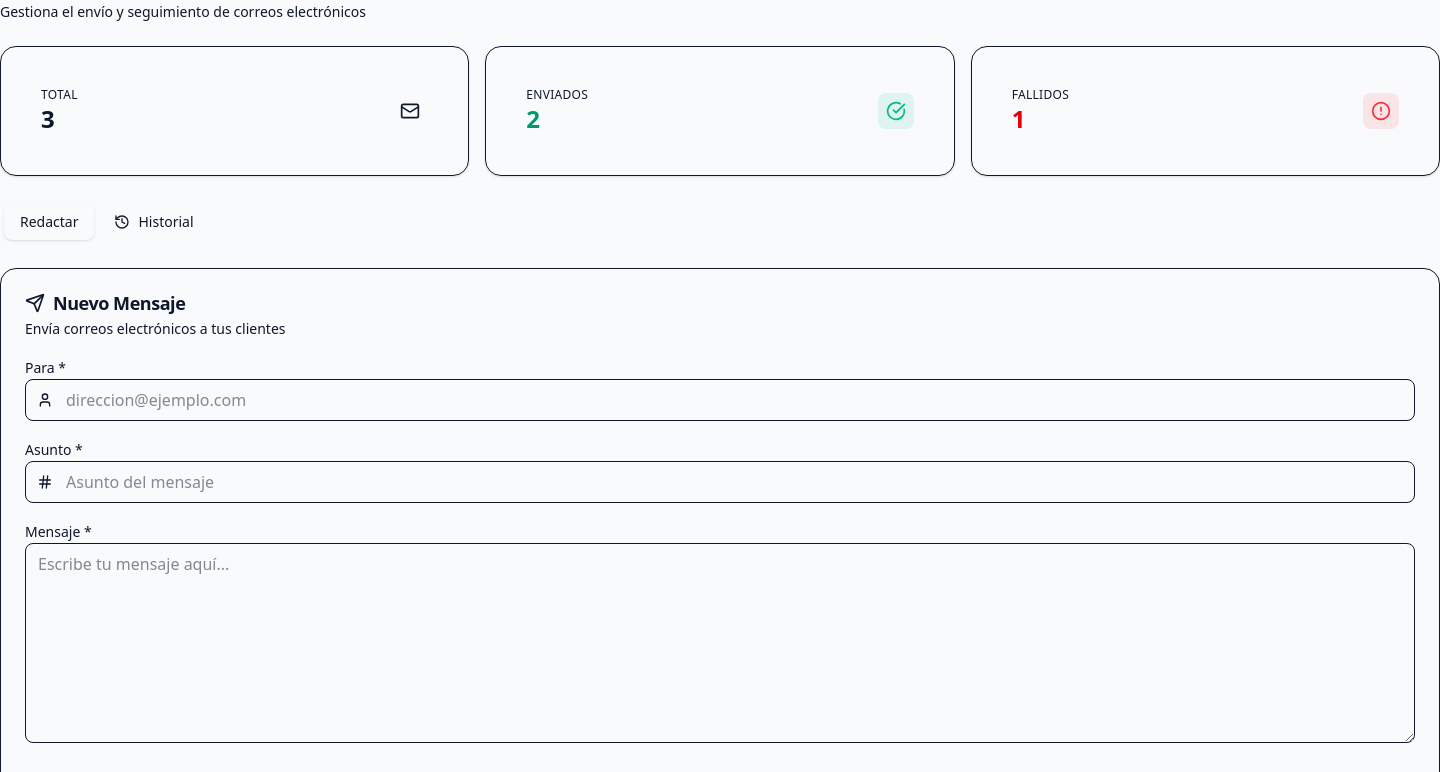
Scenario: MailPage › debe enviar correo correctamente, limpiar formulario y mostrar success
The width and height of the screenshot is (1440, 772).
Type "cliente@ejemplo.com" into the field with placeholder "direccion@ejemplo.com" at (720, 400), box top-left (25, 379), bottom-right (1415, 421)
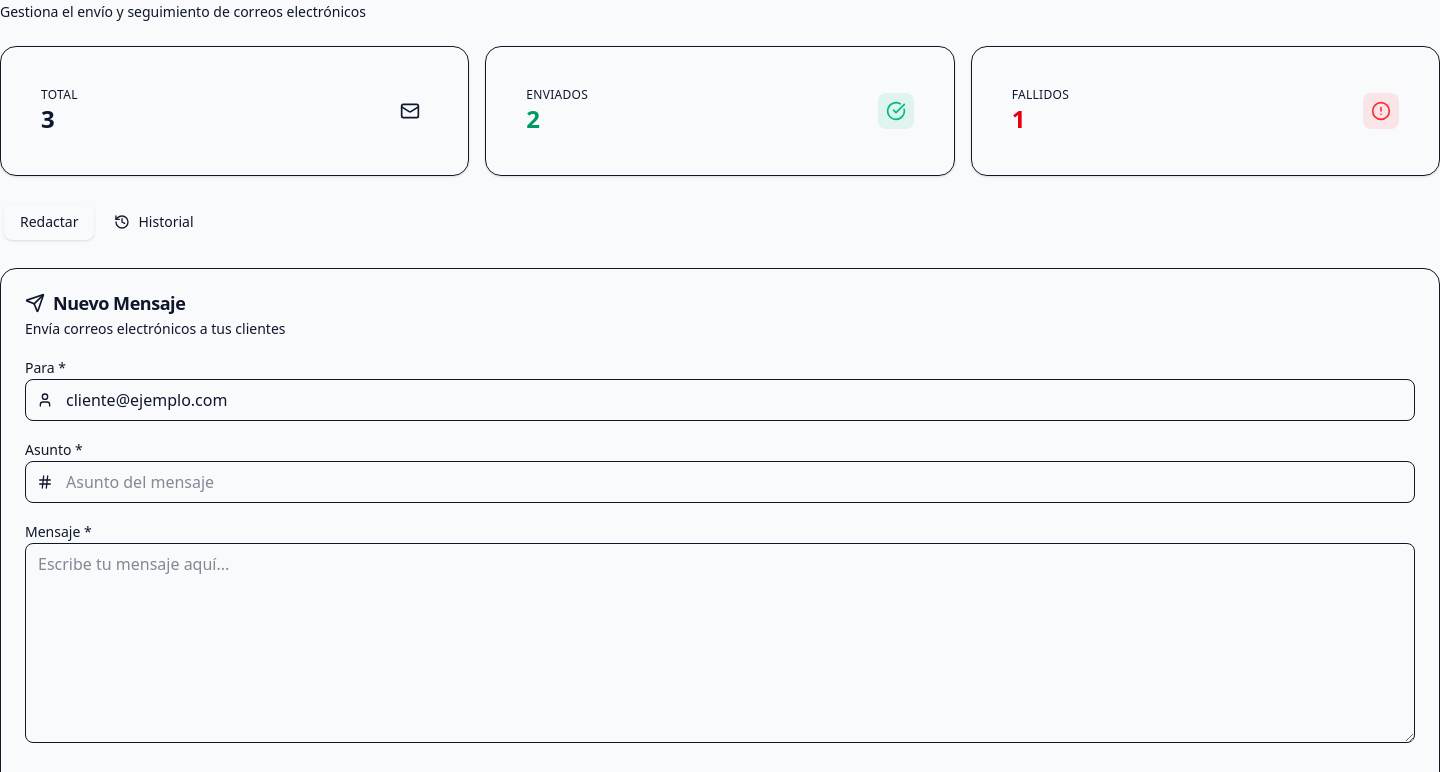
Type "Asunto" into the field with placeholder "Asunto del mensaje" at (720, 482), box top-left (25, 461), bottom-right (1415, 503)
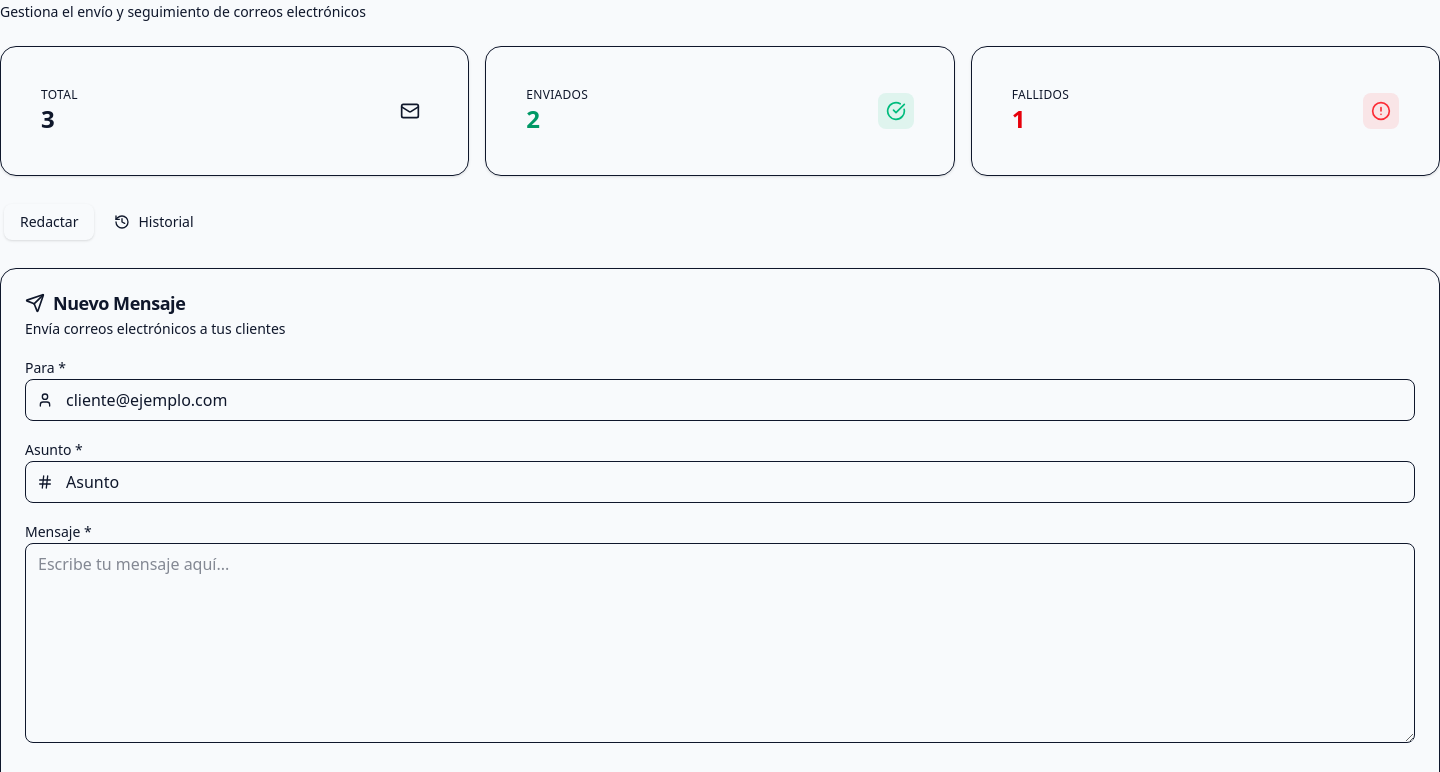
Type "Mensaje" into the text box with placeholder "Escribe tu mensaje aquí..." at (720, 643), box top-left (25, 543), bottom-right (1415, 743)
(page scrolled)
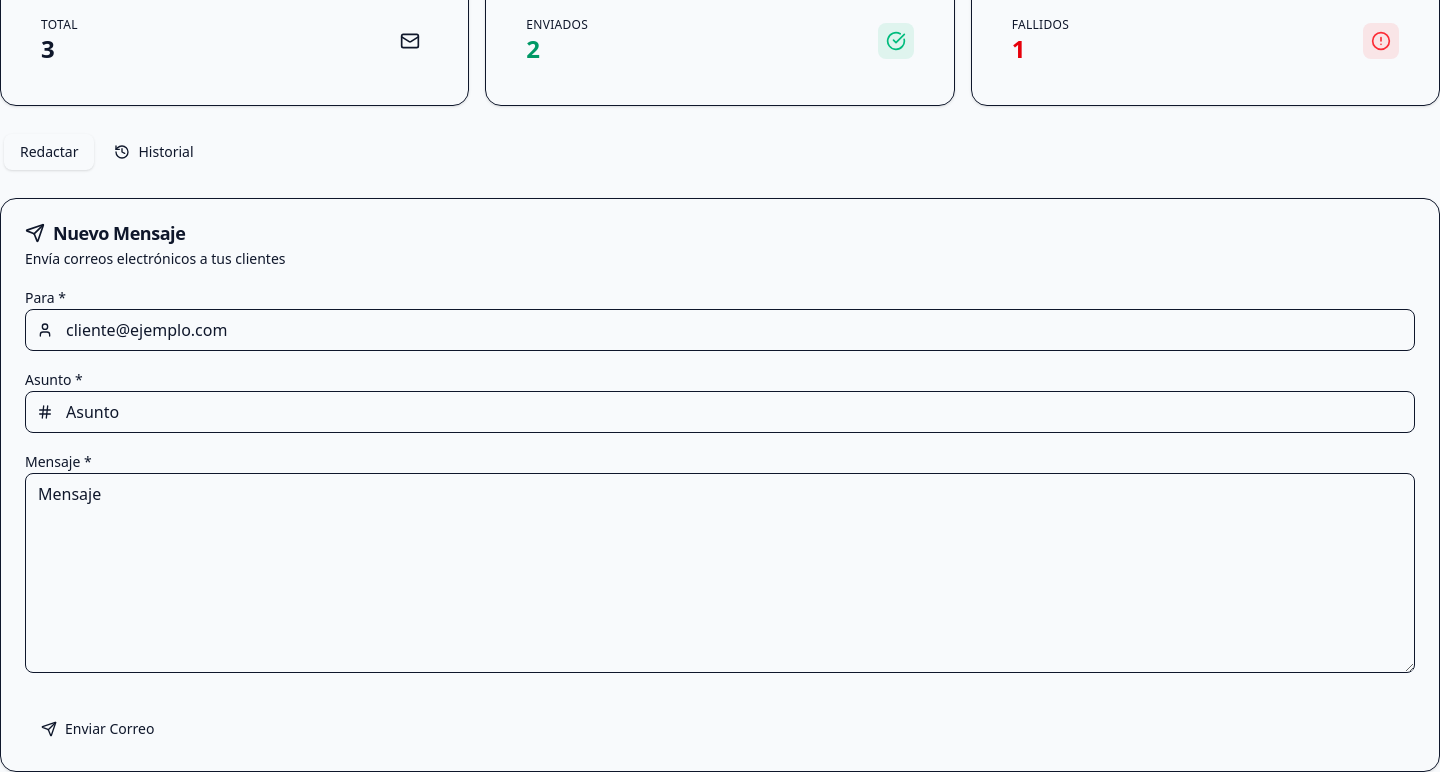
Click the button "Enviar Correo" at (98, 729), box top-left (25, 711), bottom-right (170, 747)
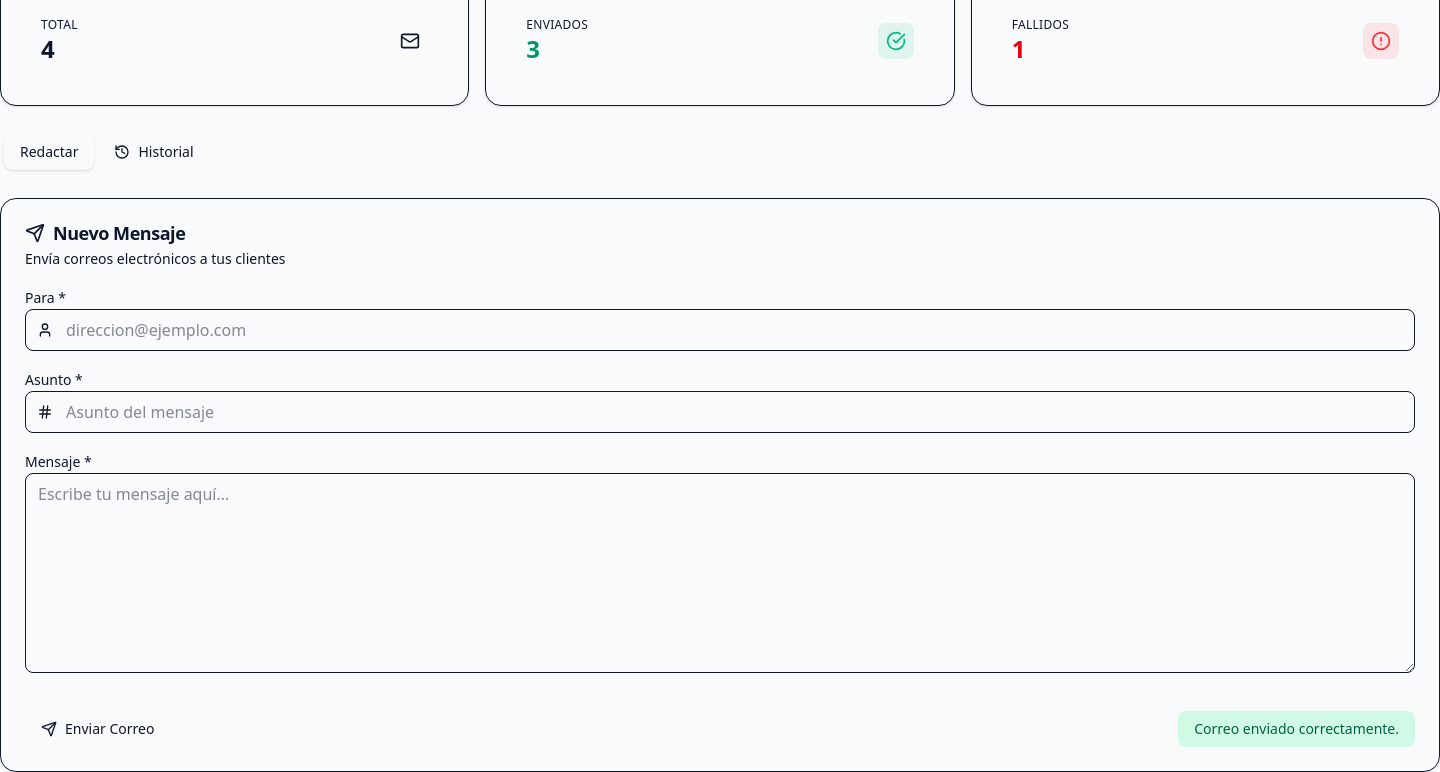
Expected: the text "Correo enviado correctamente." is shown, top-left (1178, 711), bottom-right (1415, 747)
Expected: the field with placeholder "direccion@ejemplo.com" is empty, top-left (25, 309), bottom-right (1415, 351)
Expected: the field with placeholder "Asunto del mensaje" is empty, top-left (25, 391), bottom-right (1415, 433)
